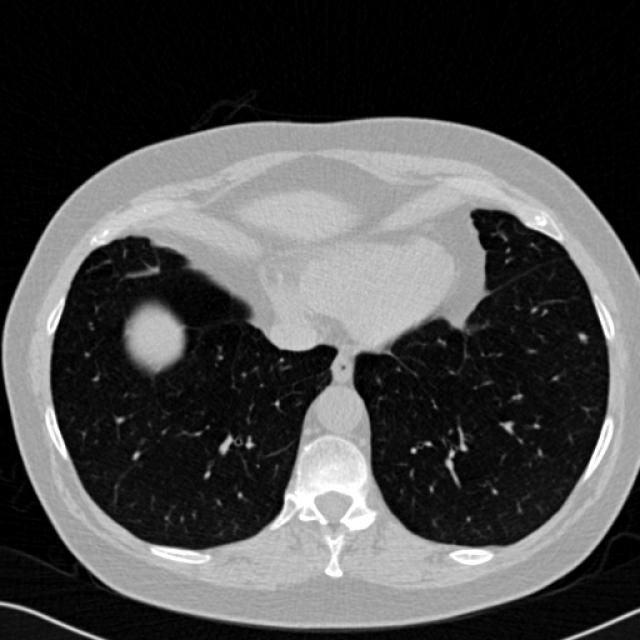nodule: (570, 324, 592, 346)
